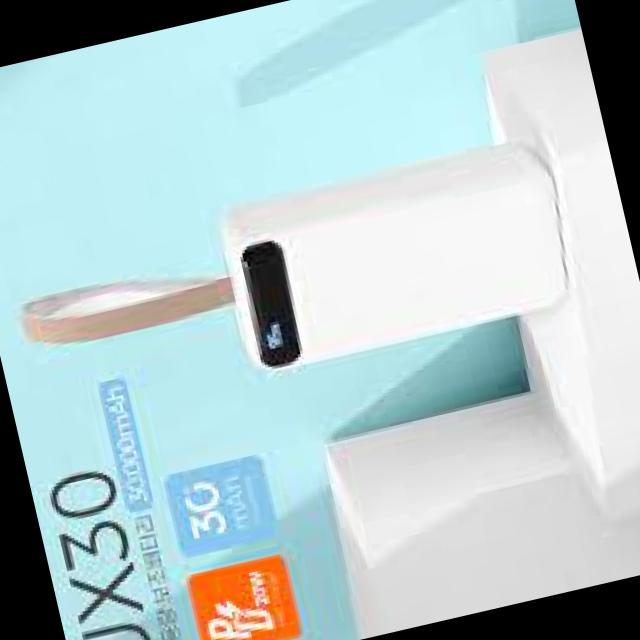portable-charger: (208, 123, 583, 376)
